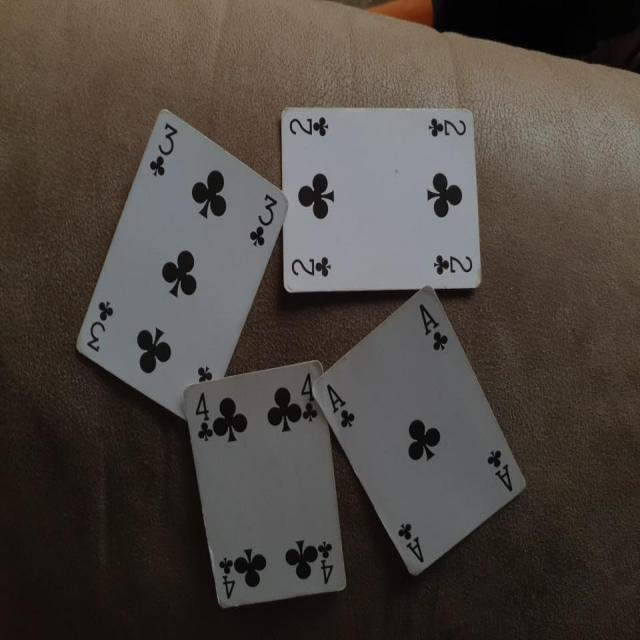2 Trefoils: (278, 104, 483, 295)
3 Trefoils: (74, 106, 288, 415)
4 Trefoils: (182, 358, 348, 604)
A Trefoils: (309, 281, 528, 576)
